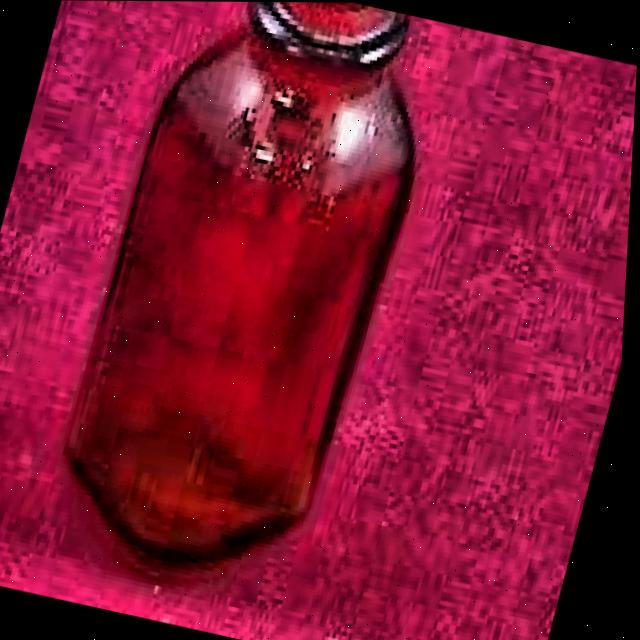glass: (64, 1, 423, 583)
